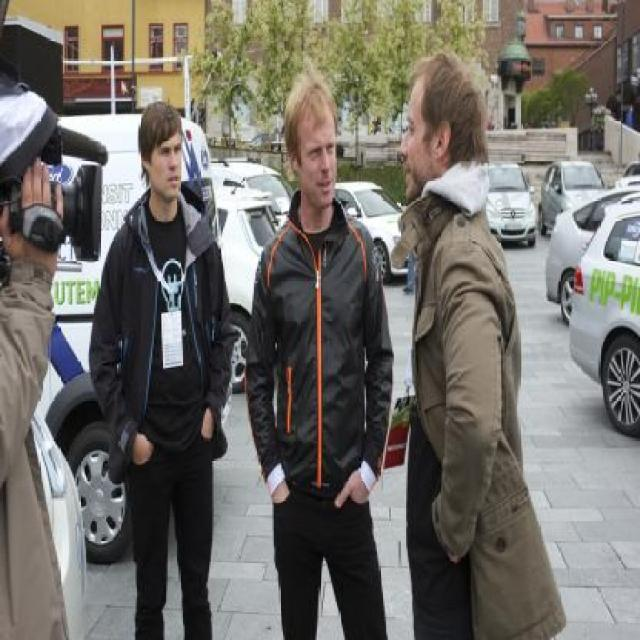truck: (569, 202, 640, 442), (548, 183, 638, 323), (216, 182, 276, 387), (334, 180, 412, 286), (209, 156, 296, 232), (539, 146, 606, 232), (486, 160, 539, 252), (616, 166, 639, 194), (622, 154, 640, 183)
